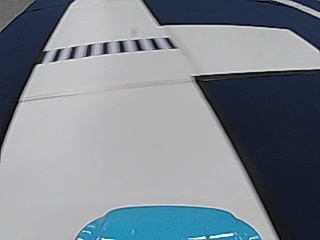CrossWalk: (46, 36, 172, 61)
